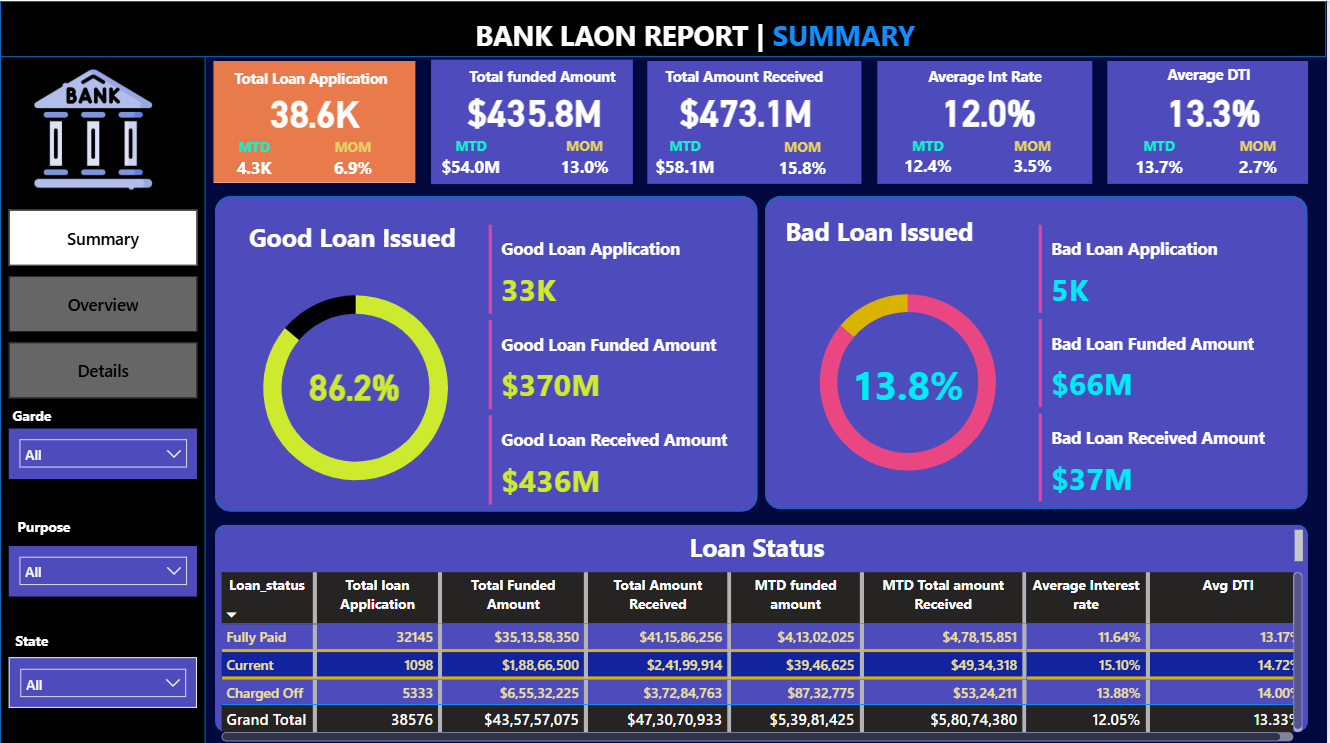

The page's visual inventory and layout, read from the dashboard file:
{"tool":"powerbi","page":{"name":"Summary","canvas":[1280,720],"ordinal":0},"visuals":[{"type":"shape","box":[0,52.5,198.4,667],"z":0},{"type":"shape","box":[207.4,188.2,523.6,304.7],"z":1000},{"type":"shape","box":[738.7,188.2,523.6,302.1],"z":2000},{"type":"shape","box":[0,0,1280,54.2],"z":3000},{"type":"textbox","box":[454.2,9.6,514.6,45.3],"z":4000},{"type":"shape","box":[206.3,58,194.7,117.3],"z":5000},{"type":"card","fields":{"Values":["Date Table.Total loan Application"]},"box":[205.8,81,194.9,52.1],"z":6000},{"type":"textbox","box":[205.4,60.7,193.7,37.5],"z":7000},{"type":"card","title":"MTD","fields":{"Values":["Date Table.MTD Loan Application"]},"box":[207.2,131.7,75.5,45.3],"z":8000},{"type":"card","title":"MOM","fields":{"Values":["Date Table.MOM LOAN APPLICATION"]},"box":[303.3,131.7,75.5,45.3],"z":9000},{"type":"shape","box":[416.4,56.7,194.7,119.9],"z":10000},{"type":"card","fields":{"Values":["Date Table.Total Funded Amount"]},"box":[418.9,80,194.9,52.1],"z":11000},{"type":"textbox","box":[420.3,58,219.2,41.3],"z":12000},{"type":"card","title":"MTD","fields":{"Values":["Date Table.MTD funded amount"]},"box":[412.6,130.2,83.8,46.4],"z":13000},{"type":"card","title":"MOM","fields":{"Values":["Date Table.MOM total amount Received"]},"box":[515.7,130.2,98,46.4],"z":14000},{"type":"shape","box":[625.3,58,206.3,118.6],"z":15000},{"type":"card","fields":{"Values":["financial_loan.Totla Amount Received"]},"box":[622.1,80.1,194.9,52.1],"z":16000},{"type":"textbox","box":[626.6,58,188.2,41.3],"z":17000},{"type":"card","title":"MTD","fields":{"Values":["Date Table.MTD Total amount Received"]},"box":[623.7,130.3,74.8,47.1],"z":18000},{"type":"card","title":"MOM","fields":{"Values":["Date Table.MOM total Amount received"]},"box":[719.4,131.5,110.9,45.1],"z":19000},{"type":"shape","box":[847.1,58,207.6,118.6],"z":20000},{"type":"card","fields":{"Values":["financial_loan.Average Interest rate"]},"box":[857.4,79.9,193.4,51.6],"z":21000},{"type":"textbox","box":[857.4,58,193.4,40],"z":22000},{"type":"card","title":"MTD","fields":{"Values":["Date Table.MTD average int Rate"]},"box":[843.2,130.2,104.4,45.1],"z":23000},{"type":"card","title":"MOM","fields":{"Values":["Date Table.MOM Avg  Int rate"]},"box":[957.9,130.2,77.4,45.1],"z":24000},{"type":"shape","box":[1068.8,58,193.4,118.6],"z":25000},{"type":"card","fields":{"Values":["Date Table.Avg DTI"]},"box":[1068.8,79.9,205,51.6],"z":26000},{"type":"donutChart","fields":{"Category":["financial_loan.Good Vs Bad Loan"],"Y":["Date Table.Total loan Application"]},"box":[216.4,257.3,254.8,233],"z":27000},{"type":"textbox","box":[1068.8,56.7,203.7,41.3],"z":28000},{"type":"card","title":"MTD","fields":{"Values":["Date Table.MTD avg DTI"]},"box":[1080.8,130.2,75.5,45.3],"z":29000},{"type":"card","title":"MOM","fields":{"Values":["Date Table.MOM Avg DTI"]},"box":[1176.9,130.2,75.5,45.3],"z":30000},{"type":"card","fields":{"Values":["financial_loan.Good Loan %"]},"box":[275.1,339,133.9,62.7],"z":31000},{"type":"cardVisual","fields":{"Data":["financial_loan.Good Loan Application","financial_loan.Good Loan Funded Amount","financial_loan.Good Loan Received  Amount"]},"box":[467.3,211.2,261.2,281.7],"z":32000},{"type":"donutChart","fields":{"Category":["financial_loan.Good Vs Bad Loan"],"Y":["Date Table.Total loan Application"]},"box":[752.8,257.3,247.1,222.8],"z":33000},{"type":"textbox","box":[753,201.5,298.4,43.9],"z":34000},{"type":"card","fields":{"Values":["financial_loan.Bad Loan %"]},"box":[818,340.2,117,61.5],"z":35000},{"type":"cardVisual","fields":{"Data":["financial_loan.Bad Loan Application","financial_loan.Bad Loan Funded Amount","financial_loan.Bad Loan Received  Amount"]},"box":[997.3,211.2,254.8,279.1],"z":36000},{"type":"shape","box":[207.4,505.7,1054.9,199.7],"z":37000},{"type":"textbox","box":[206.1,505.7,1056.2,41],"z":38000},{"type":"tableEx","fields":{"Values":["financial_loan.loan_status","Date Table.Total loan Application","Date Table.Total Funded Amount","financial_loan.Total Amount Received","Date Table.MTD funded amount","Date Table.MTD Total amount Received","financial_loan.Average Interest rate","Date Table.Avg DTI"]},"box":[207.4,546.7,1054.9,172.8],"z":39000},{"type":"textbox","box":[234.7,207.6,210.5,47.8],"z":40000},{"type":"slicer","fields":{"Values":["financial_loan.address_state","financial_loan.purpose"]},"box":[9,633.7,181.8,48.6],"z":41000},{"type":"textbox","box":[0,603,61.5,30.7],"z":42000},{"type":"slicer","fields":{"Values":["financial_loan.purpose"]},"box":[9,526.2,181.8,48.6],"z":43000},{"type":"slicer","fields":{"Values":["financial_loan.grade"]},"box":[9,412.2,181.8,48.6],"z":44000},{"type":"textbox","box":[0,386.6,65.3,30.7],"z":45000},{"type":"textbox","box":[0,492.9,84.5,30.7],"z":46000},{"type":"image","box":[0,57.9,179.8,130.3],"z":47000},{"type":"pageNavigator","box":[8.4,201.5,182.2,184.6],"z":48000}]}

Visuals, with their boxes in screenshot pixels (x1, y1, x2, y2), scaled from the page's 1280x720 canvas onto the 1330x743 screenshot:
shape: region(0, 54, 206, 742)
shape: region(216, 194, 760, 509)
shape: region(768, 194, 1312, 506)
shape: region(0, 0, 1329, 56)
textbox: region(472, 10, 1007, 57)
shape: region(214, 60, 417, 181)
card - Date Table.Total loan Application: region(214, 84, 416, 137)
textbox: region(213, 63, 415, 101)
"MTD" card: region(215, 136, 294, 183)
"MOM" card: region(315, 136, 394, 183)
shape: region(433, 59, 635, 182)
card - Date Table.Total Funded Amount: region(435, 83, 638, 136)
textbox: region(437, 60, 664, 102)
"MTD" card: region(429, 134, 516, 182)
"MOM" card: region(536, 134, 638, 182)
shape: region(650, 60, 864, 182)
card - financial_loan.Totla Amount Received: region(646, 83, 849, 136)
textbox: region(651, 60, 847, 102)
"MTD" card: region(648, 134, 726, 183)
"MOM" card: region(748, 136, 863, 182)
shape: region(880, 60, 1096, 182)
card - financial_loan.Average Interest rate: region(891, 82, 1092, 136)
textbox: region(891, 60, 1092, 101)
"MTD" card: region(876, 134, 985, 181)
"MOM" card: region(995, 134, 1076, 181)
shape: region(1111, 60, 1312, 182)
card - Date Table.Avg DTI: region(1111, 82, 1324, 136)
donutChart - financial_loan.Good Vs Bad Loan x Date Table.Total loan Application: region(225, 266, 490, 506)
textbox: region(1111, 59, 1322, 101)
"MTD" card: region(1123, 134, 1201, 181)
"MOM" card: region(1223, 134, 1301, 181)
card - financial_loan.Good Loan %: region(286, 350, 425, 415)
cardVisual - financial_loan.Good Loan Application x financial_loan.Good Loan Funded Amount: region(486, 218, 757, 509)
donutChart - financial_loan.Good Vs Bad Loan x Date Table.Total loan Application: region(782, 266, 1039, 495)
textbox: region(782, 208, 1092, 253)
card - financial_loan.Bad Loan %: region(850, 351, 972, 415)
cardVisual - financial_loan.Bad Loan Application x financial_loan.Bad Loan Funded Amount: region(1036, 218, 1301, 506)
shape: region(216, 522, 1312, 728)
textbox: region(214, 522, 1312, 564)
tableEx - financial_loan.loan_status x Date Table.Total loan Application: region(216, 564, 1312, 742)
textbox: region(244, 214, 463, 264)
slicer - financial_loan.address_state x financial_loan.purpose: region(9, 654, 198, 704)
textbox: region(0, 622, 64, 654)
slicer - financial_loan.purpose: region(9, 543, 198, 593)
slicer - financial_loan.grade: region(9, 425, 198, 476)
textbox: region(0, 399, 68, 431)
textbox: region(0, 509, 88, 540)
image: region(0, 60, 187, 194)
pageNavigator: region(9, 208, 198, 398)
